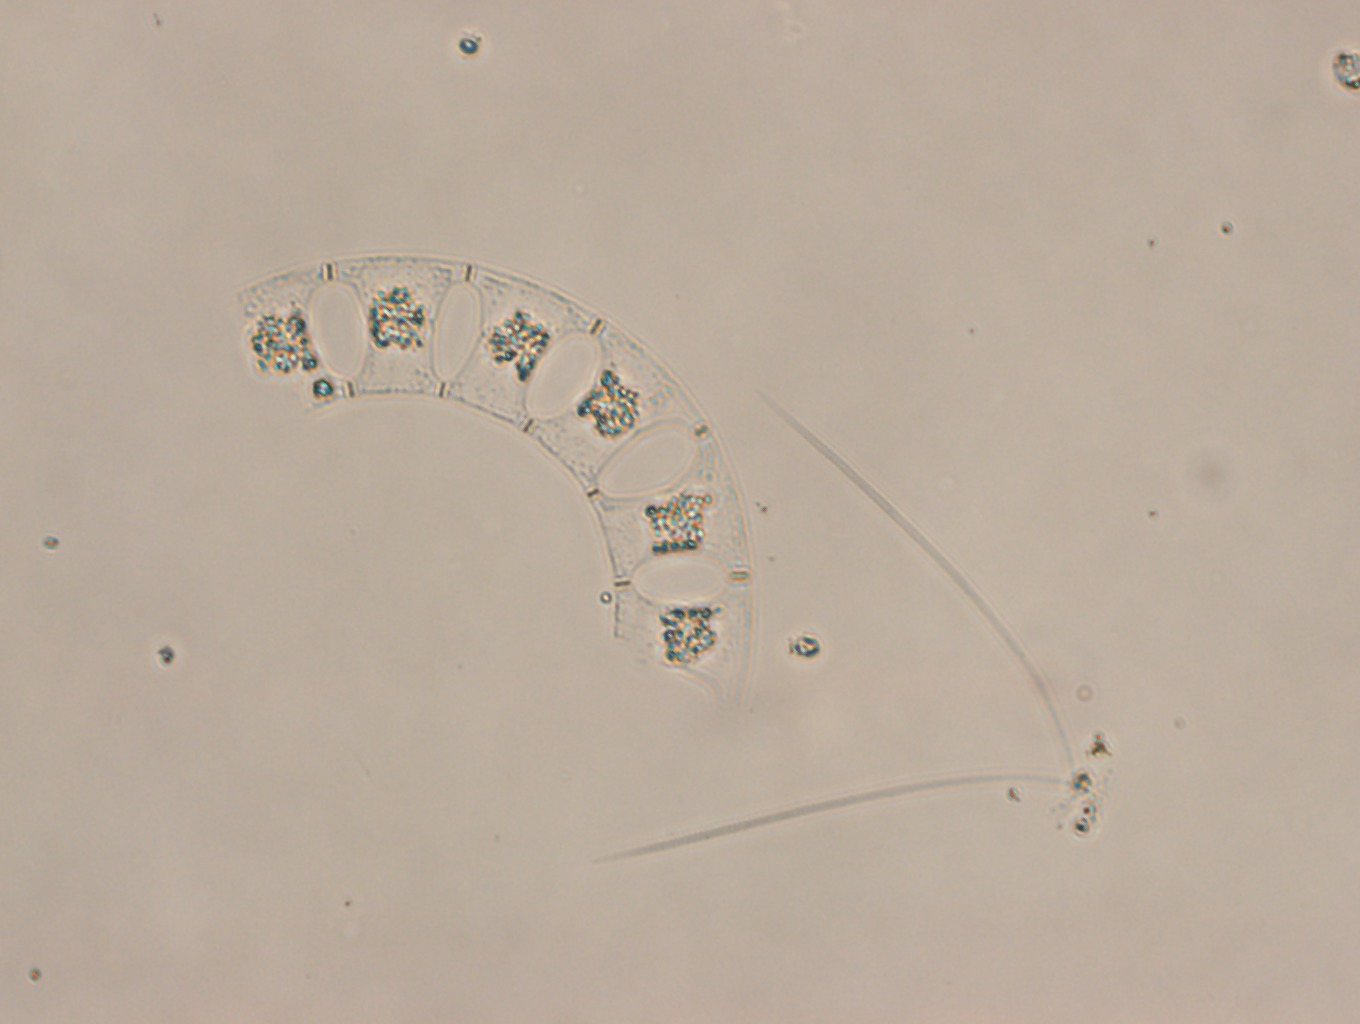eucampia: (233, 256, 755, 706)
